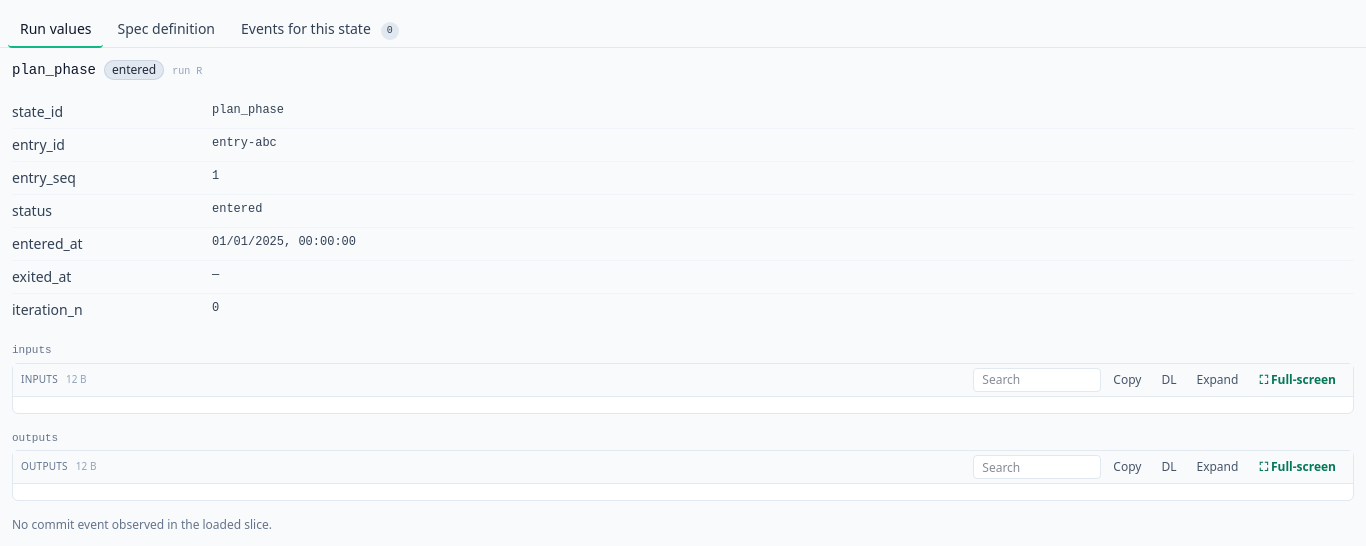
Test case: StateEntrySheetBody › tab 2 mounts StateInspectorBody (id / kind metadata rows)
What coordinates should you click on to do the following:
click the tab "Spec definition"
I would click on:
 (166, 30)
Its box is [106,12,227,48].
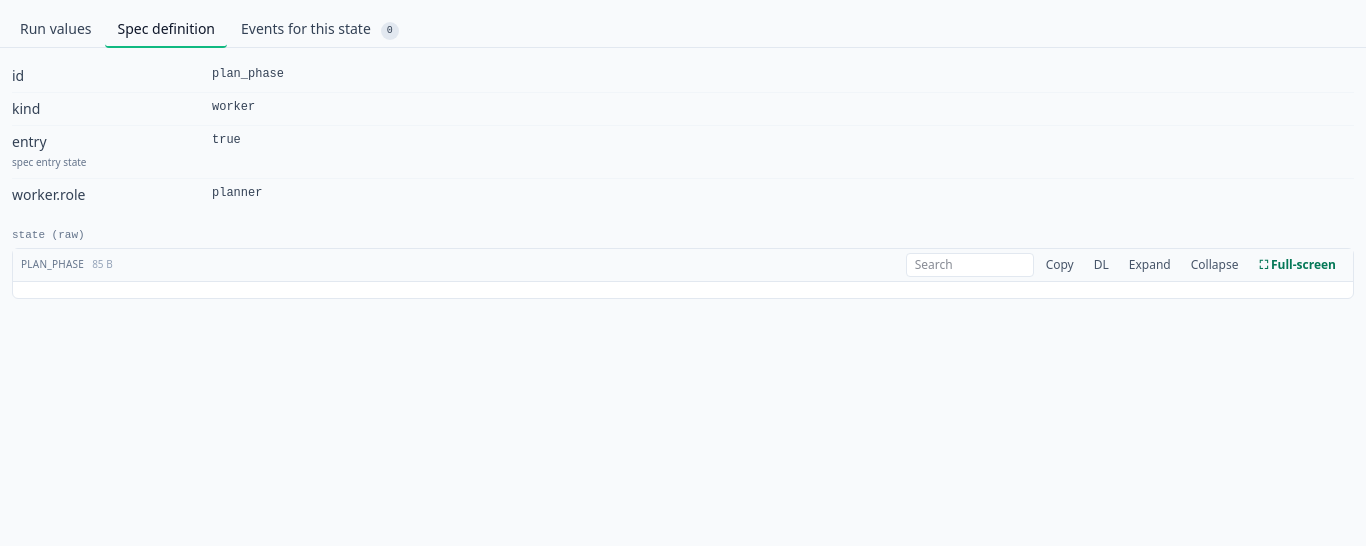
Expected: the button "id" is shown, [12,66,24,86]
Expected: the button "kind" is shown, [12,99,40,119]
Expected: the button "worker.role" is shown, [12,185,85,205]
